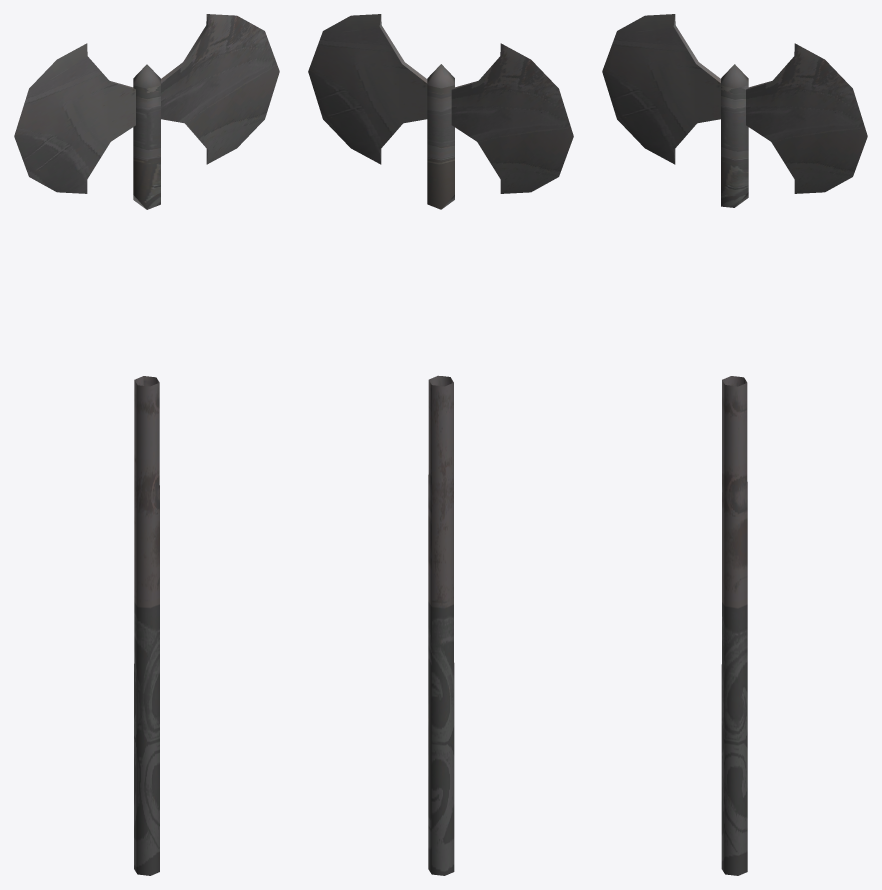
The model's file is Weapon02.fbx.
The picture shows the model from 3 angles, left to right: view 1: azimuth 30°, elevation 25°; view 2: azimuth 150°, elevation 25°; view 3: azimuth 330°, elevation 25°; orthographic projection.
Parts seen in each view (by area): view 1: LV_Common_Object_B_Weapon02_SM_NWCTOY; view 2: LV_Common_Object_B_Weapon02_SM_NWCTOY; view 3: LV_Common_Object_B_Weapon02_SM_NWCTOY.
Boxes of the visible parts, x1,y1,x2,y2 form: LV_Common_Object_B_Weapon02_SM_NWCTOY: (14,14,279,875); LV_Common_Object_B_Weapon02_SM_NWCTOY: (308,14,573,875); LV_Common_Object_B_Weapon02_SM_NWCTOY: (602,14,867,875).
Bounding box in the file's own units: 13.93 × 42.17 × 1.26.
